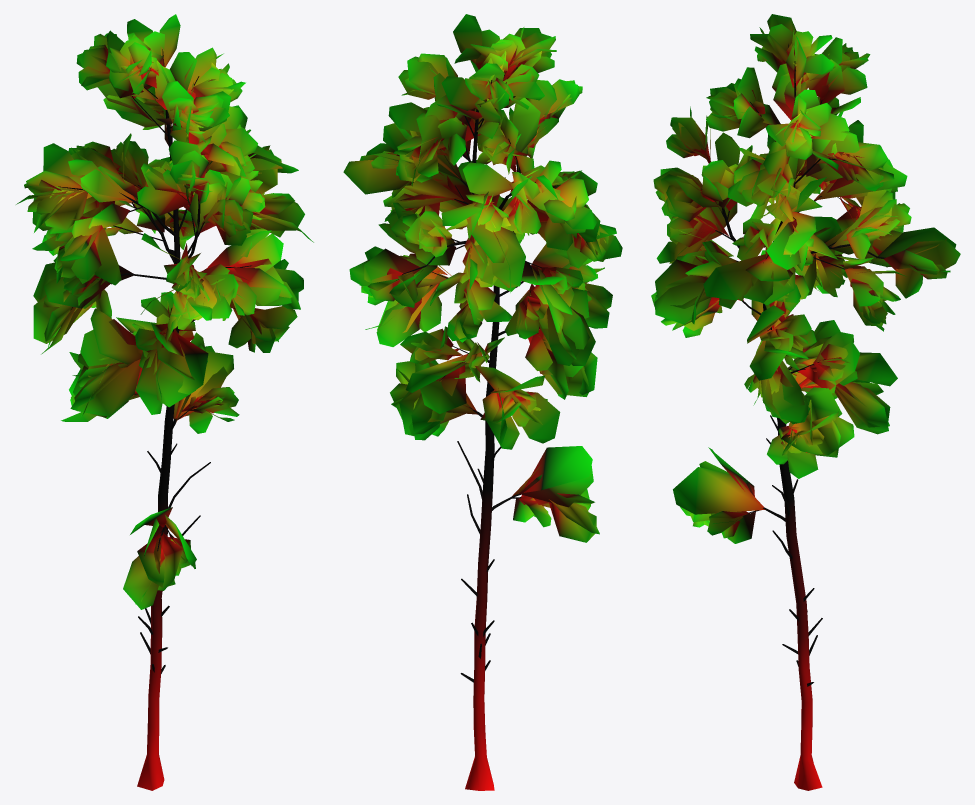
File: Pine_2_LOD_1.fbx
3 views of the same model, side by side, from view 1: azimuth 30°, elevation 25°; view 2: azimuth 150°, elevation 25°; view 3: azimuth 270°, elevation 25° (orthographic).
Visible parts, largest first — view 1: Pine_2_LOD_1; view 2: Pine_2_LOD_1; view 3: Pine_2_LOD_1.
Part boxes in pixels (box(x1,y1,x2,y2)): Pine_2_LOD_1: box(16, 14, 313, 790); Pine_2_LOD_1: box(343, 14, 622, 790); Pine_2_LOD_1: box(651, 14, 960, 790).
Size of the model in its own units: 13.18 by 37.72 by 13.98.
